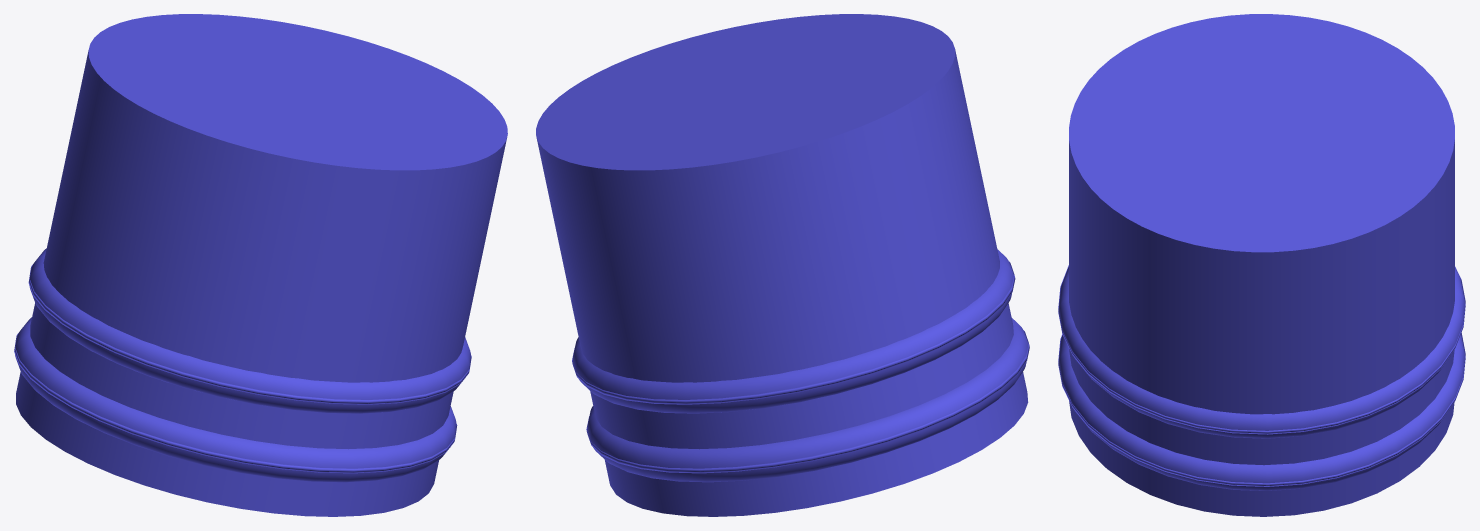
File: bombilla160.obj
3 views of the same model, side by side, from view 1: azimuth 30°, elevation 25°; view 2: azimuth 150°, elevation 25°; view 3: azimuth 270°, elevation 25° (orthographic). The views are drawn at different scales.
Parts seen in each view (by area): view 1: Cylinder001, Cylinder004, Cylinder003, Cylinder006, Cylinder002; view 2: Cylinder001, Cylinder004, Cylinder003, Cylinder006, Cylinder002; view 3: Cylinder001, Cylinder004, Cylinder002, Cylinder003, Cylinder006.
Boxes of the visible parts, bbox=[...] form: Cylinder001: bbox=[43, 14, 507, 382]; Cylinder004: bbox=[14, 317, 457, 482]; Cylinder003: bbox=[30, 303, 453, 449]; Cylinder006: bbox=[16, 372, 438, 516]; Cylinder002: bbox=[28, 248, 471, 413]; Cylinder001: bbox=[536, 14, 999, 382]; Cylinder004: bbox=[586, 318, 1029, 482]; Cylinder003: bbox=[590, 303, 1013, 449]; Cylinder006: bbox=[605, 372, 1028, 516]; Cylinder002: bbox=[572, 249, 1015, 413]; Cylinder001: bbox=[1069, 14, 1454, 414]; Cylinder004: bbox=[1058, 333, 1465, 490]; Cylinder002: bbox=[1058, 265, 1465, 438]; Cylinder003: bbox=[1069, 348, 1454, 465]; Cylinder006: bbox=[1069, 401, 1454, 516].
Bounding box in the file's own units: 80.16 × 73.53 × 72.21.
